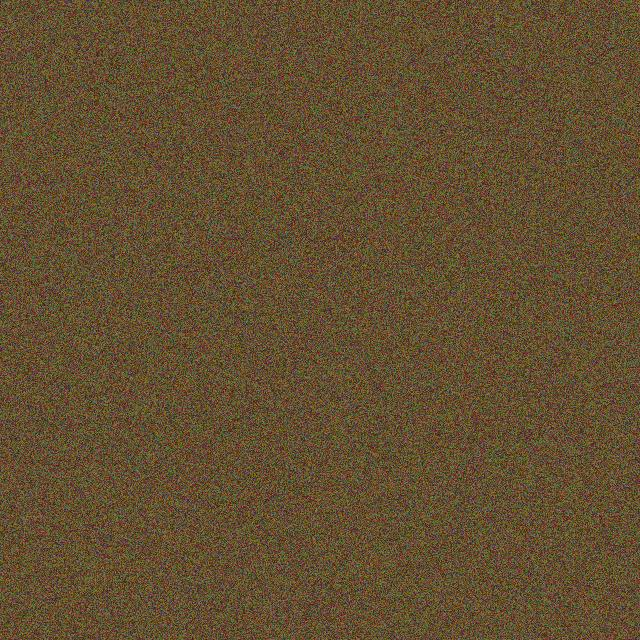human: (183, 108, 237, 202)
